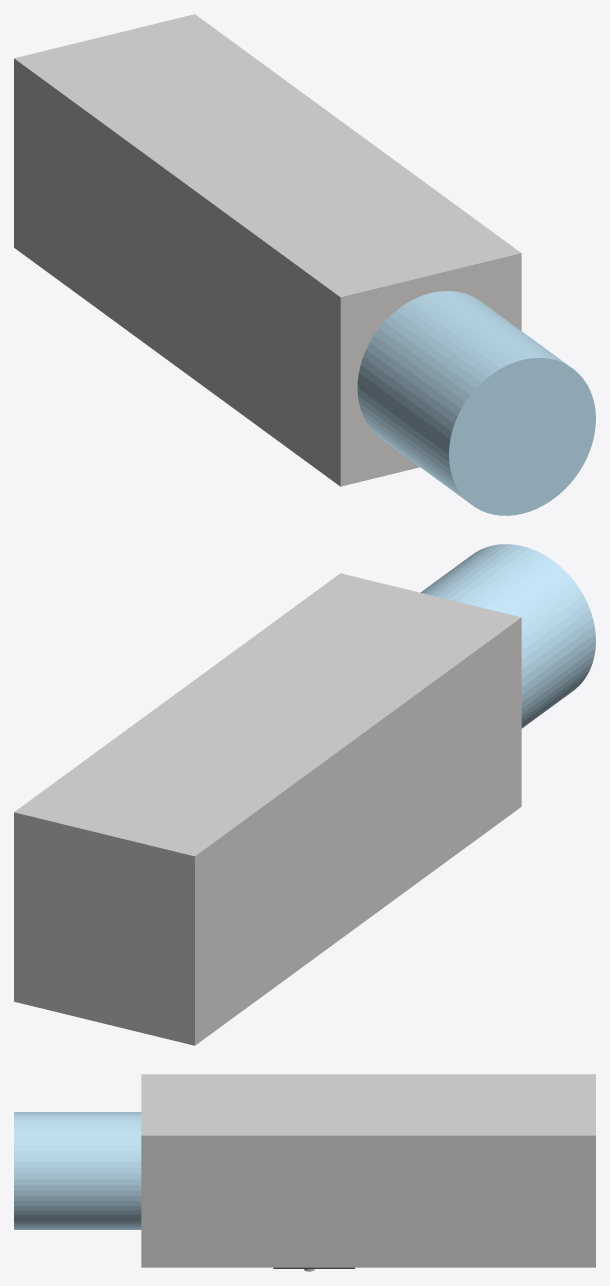
Rendered from 412 SEBIL - WATER FOUNTAIN.glb.
3 views of the same model, one above another, from view 1: azimuth 30°, elevation 25°; view 2: azimuth 150°, elevation 25°; view 3: azimuth 270°, elevation 25° (orthographic). The views are drawn at different scales.
Parts seen in each view (by area): view 1: body, bottle; view 2: body, bottle; view 3: body, bottle.
Part boxes in pixels (x1,y1,x2,y2): body: [14, 14, 521, 486]; bottle: [357, 291, 595, 515]; body: [14, 573, 521, 1045]; bottle: [420, 544, 595, 728]; body: [141, 1074, 595, 1267]; bottle: [14, 1112, 141, 1229].
Bounding box in the file's own units: 0.32 × 0.38 × 1.28.
